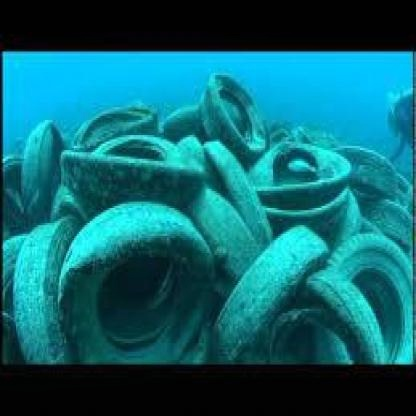tire: (61, 198, 215, 362), (222, 217, 314, 373), (316, 227, 414, 358), (58, 128, 197, 214), (201, 70, 279, 174), (34, 122, 170, 165), (244, 135, 315, 202)
